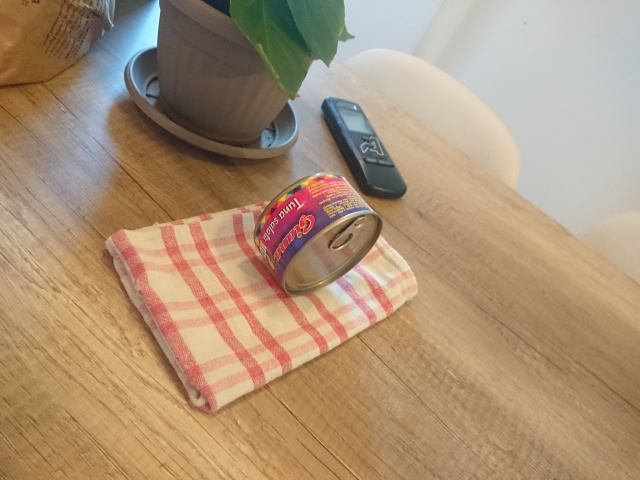Giana Tuna Salad Mexico 185g: (251, 170, 386, 299)
